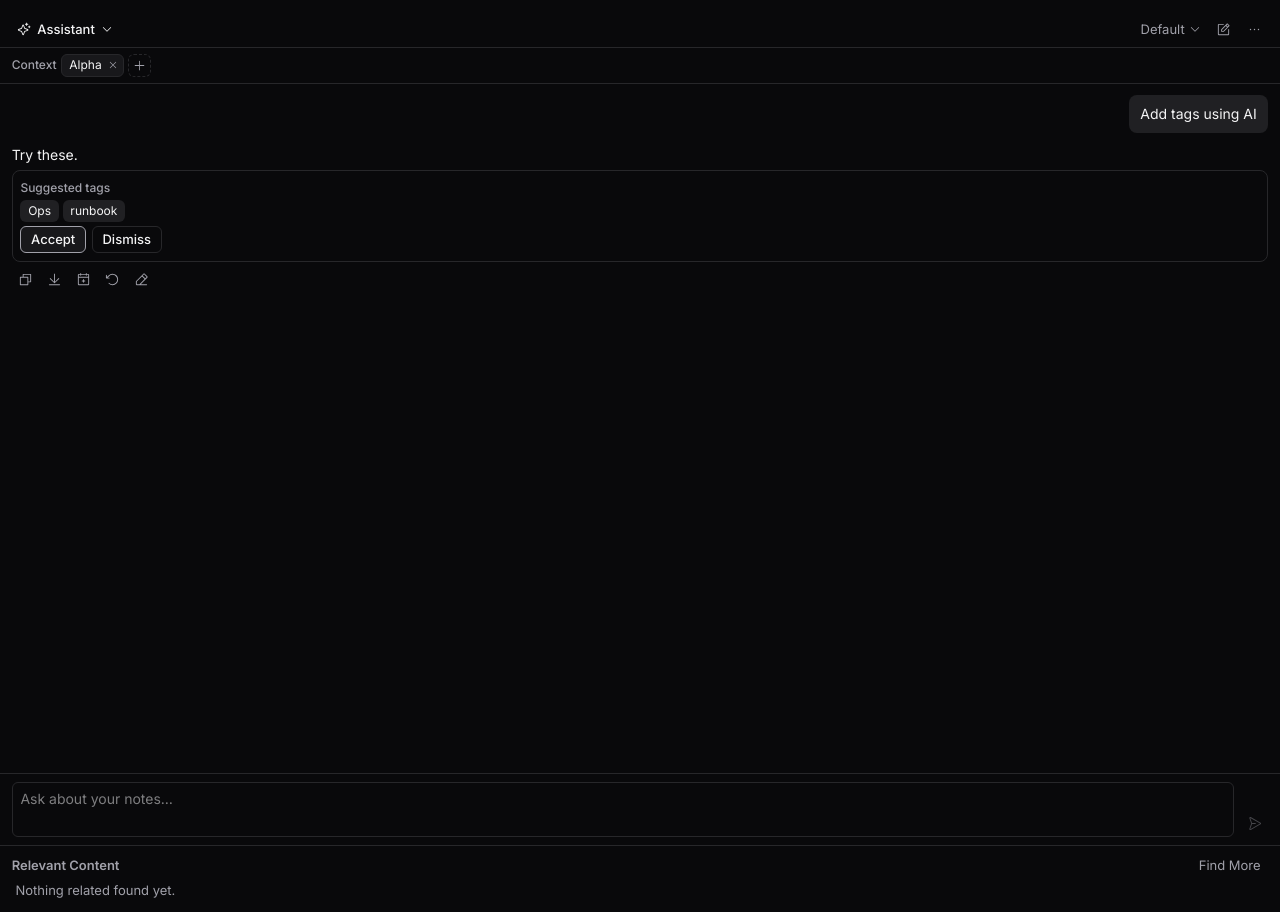
Test: AiChatPanel › test a tags proposal: Accept adds the union of tags with the version; Dismiss hides it
Later steps or results of the test are not shown.
Expected: the list item "runbook" is shown, [63, 200, 125, 222]
Click the button "Accept". click: (53, 240)
box: [20, 226, 86, 253]
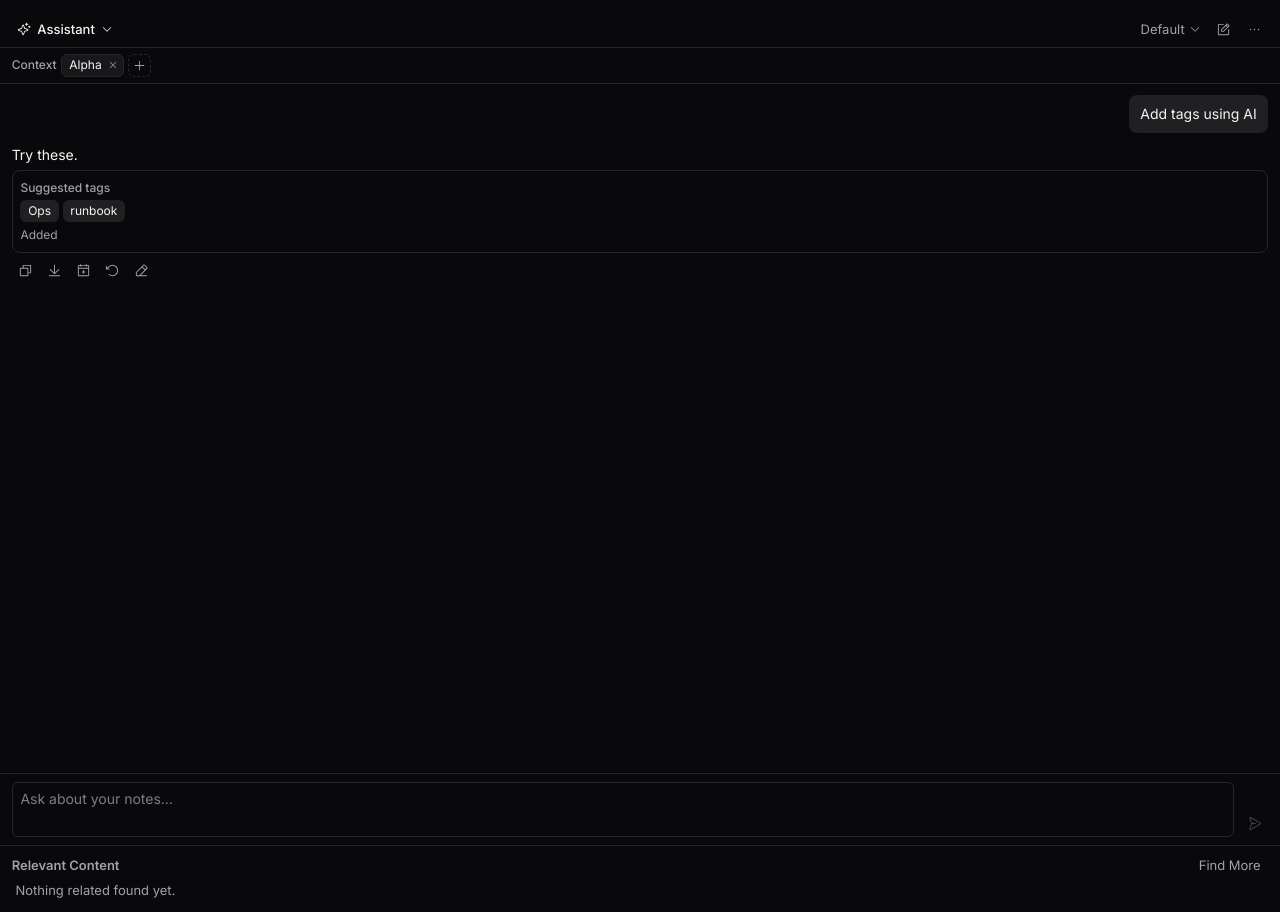
Expected: the text "Added" is shown, [20, 226, 58, 244]
Note: Another proposal, dismissed.
Type "again" into the text box named "Message". click: (623, 809)
box: [12, 782, 1234, 837]
Then press Enter
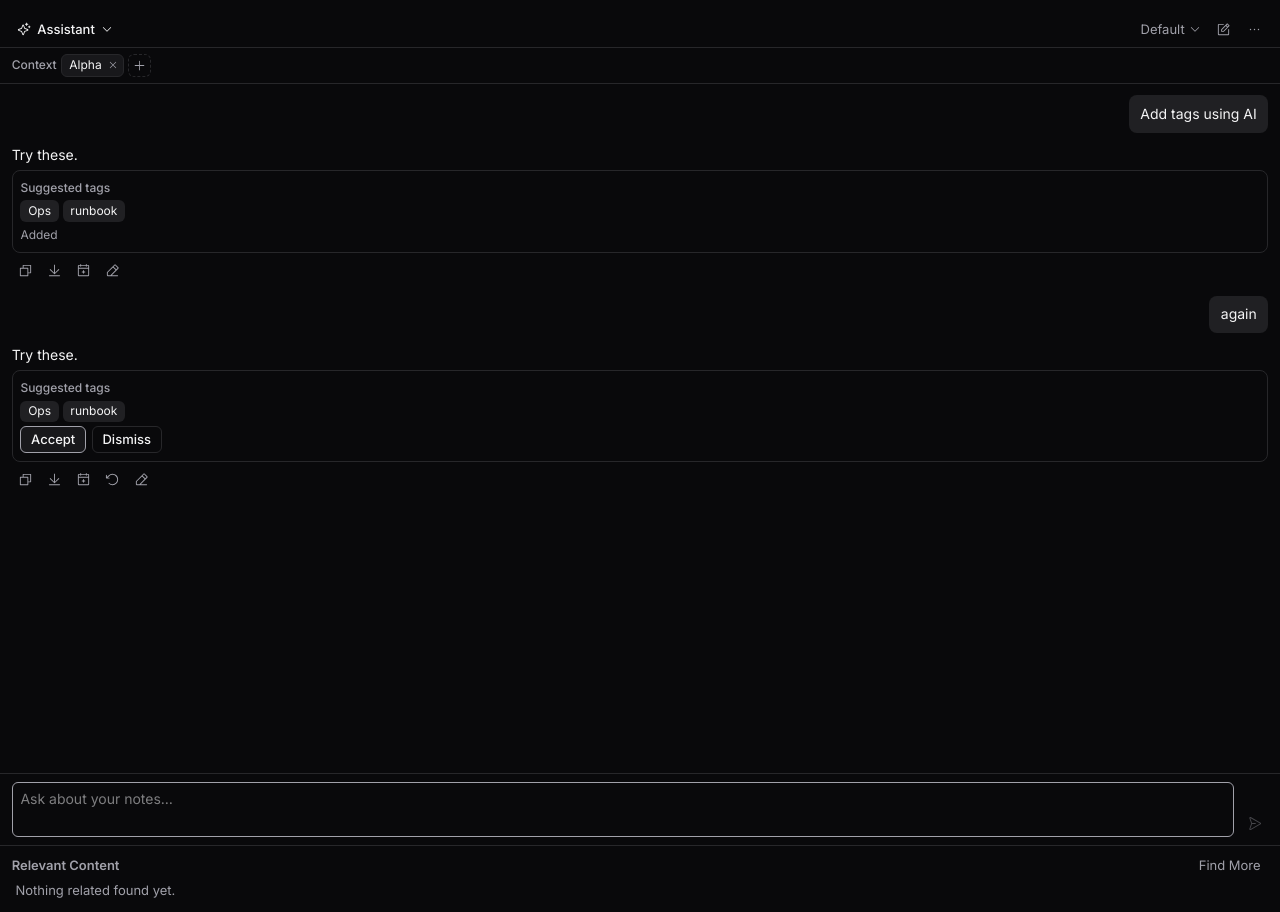
Expected: the number of elements "Suggested tags" is 2, [12, 170, 1268, 253]; [12, 370, 1268, 462]
